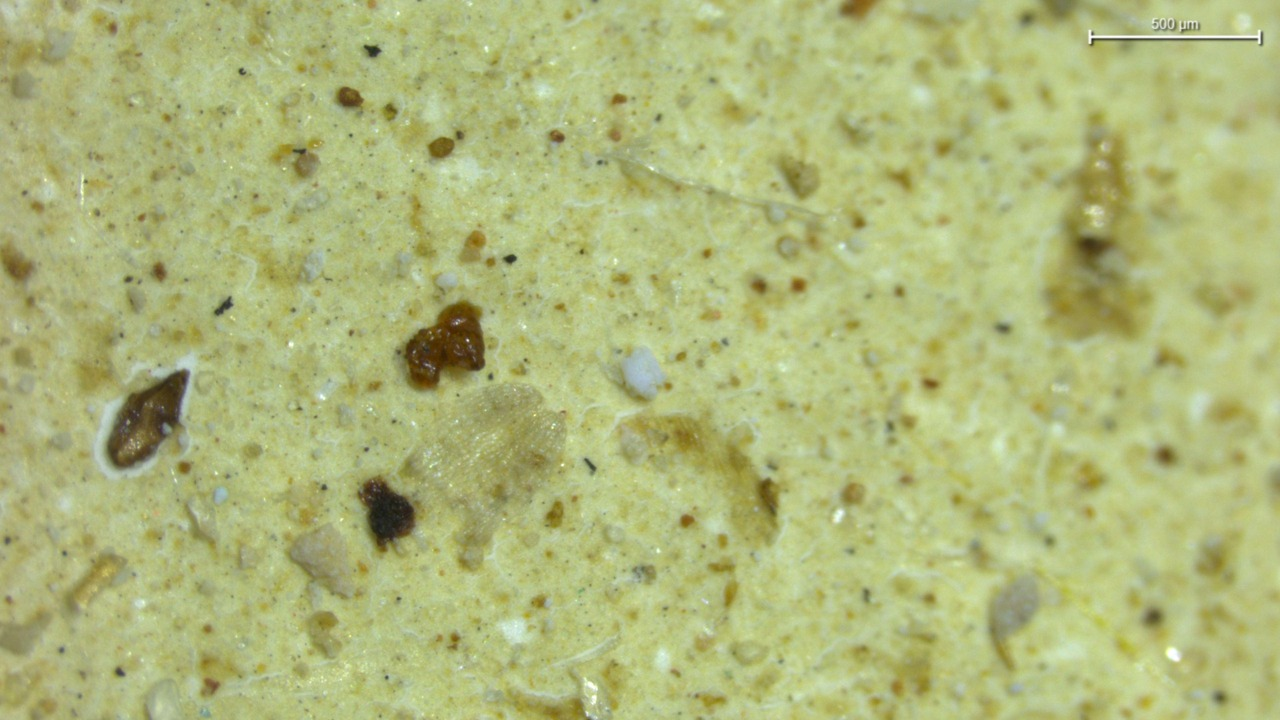microplastic_fragment: (285, 527, 365, 602), (617, 340, 668, 404)
